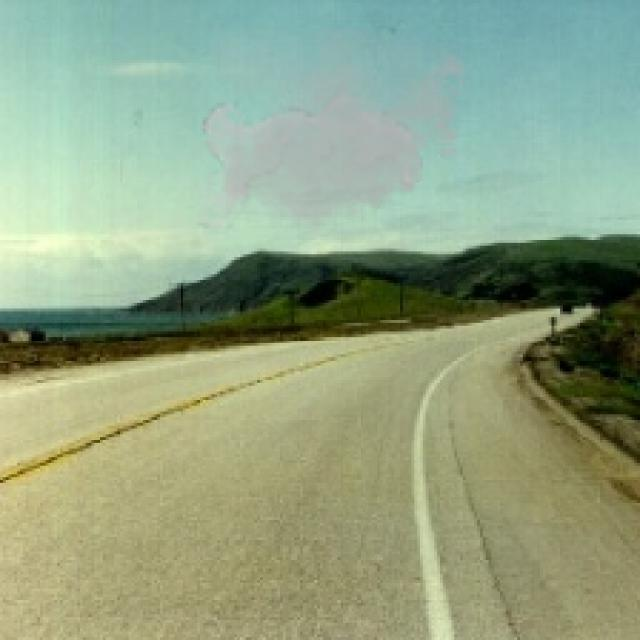Smoke: (197, 28, 477, 240)
